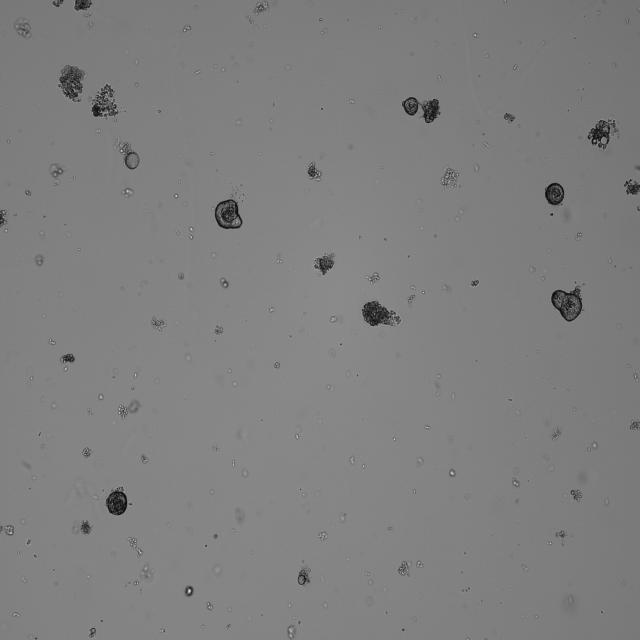alive: (550, 286, 584, 322), (214, 198, 244, 230), (543, 182, 566, 208), (400, 93, 421, 120)
dead: (360, 297, 402, 331), (56, 62, 88, 103), (89, 82, 120, 119), (587, 114, 617, 150), (310, 249, 338, 278), (104, 487, 130, 517), (306, 161, 324, 183), (396, 560, 412, 578), (116, 403, 130, 421), (569, 488, 584, 504)
